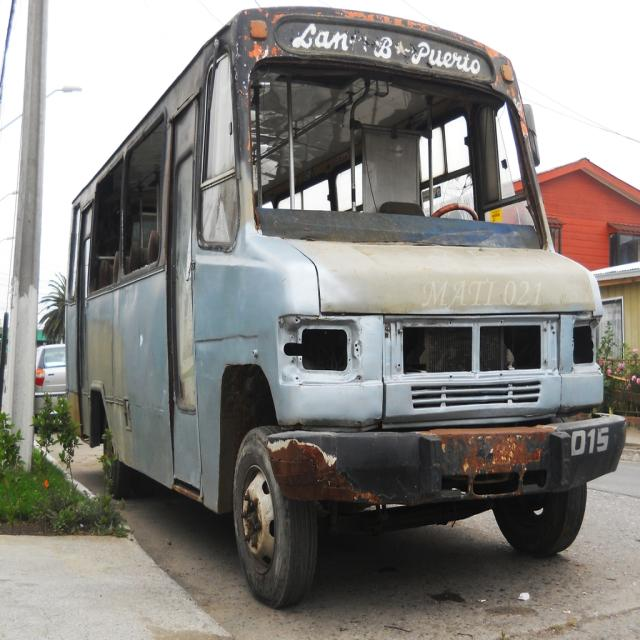Buses: (59, 4, 628, 621)
